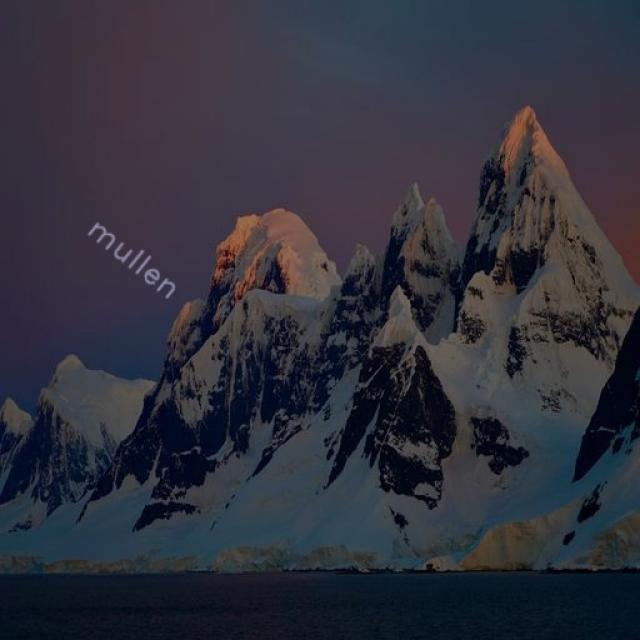watermark: (77, 207, 192, 306)
